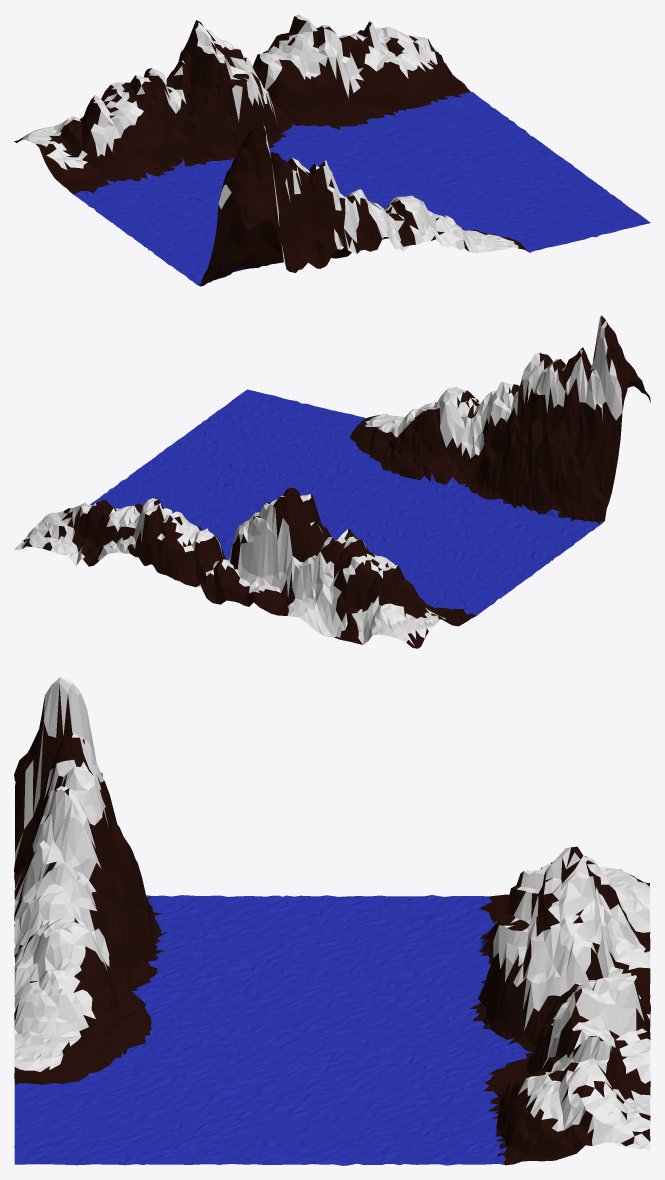
File: fourth.fbx
3 renders of one model, top to bottom at view 1: azimuth 30°, elevation 25°; view 2: azimuth 150°, elevation 25°; view 3: azimuth 270°, elevation 25°, orthographic. The views are drawn at different scales.
Visible parts, largest first — view 1: fourth; view 2: fourth; view 3: fourth.
Boxes of the visible parts, x1,y1,x2,y2 form: fourth: (14, 14, 650, 286); fourth: (14, 315, 650, 648); fourth: (14, 677, 650, 1165).
Size of the model in its own units: 50080 by 21074 by 50119.
